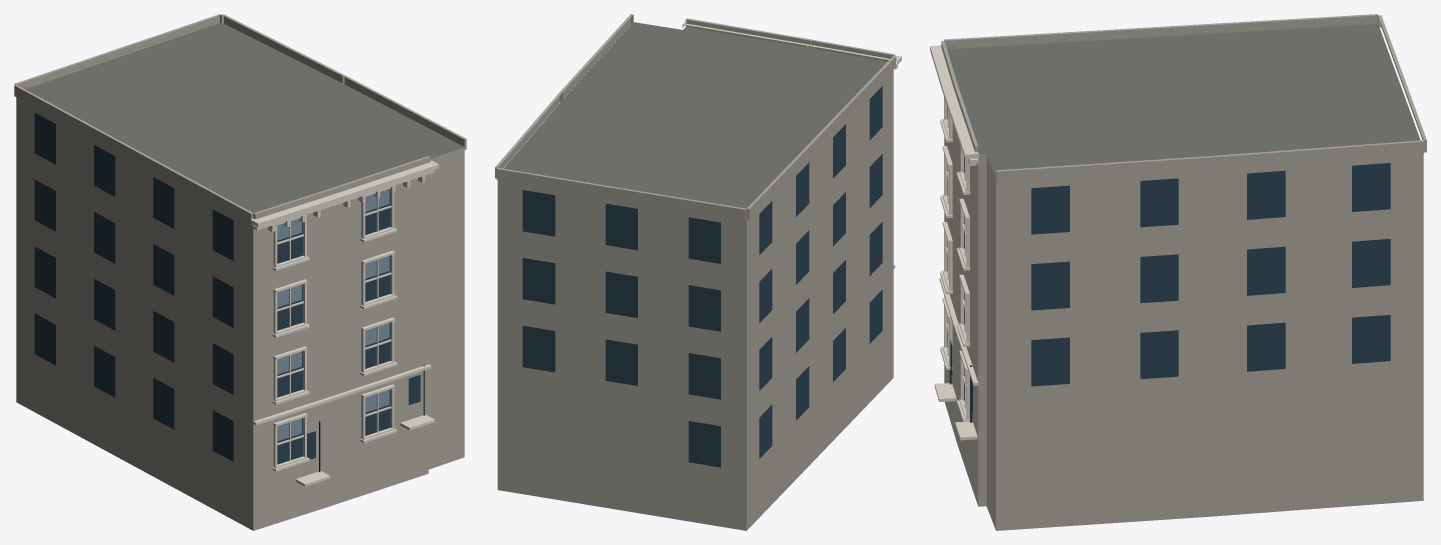
3 renders of one model, left to right at view 1: azimuth 30°, elevation 25°; view 2: azimuth 150°, elevation 25°; view 3: azimuth 270°, elevation 25°, orthographic. The views are drawn at different scales.
Parts seen in each view (by area): view 1: Footprint 0 / surface 2, Footprint 0 / surface 1, Inset glazing, Cornices and window frames, Facade bay volumes, Sky reflection panels; view 2: Footprint 0 / surface 2, Footprint 0 / surface 1, Inset glazing, Facade bay volumes, Cornices and window frames; view 3: Footprint 0 / surface 2, Footprint 0 / surface 1, Inset glazing, Facade bay volumes, Cornices and window frames.
Part boxes in pixels (bbox=[...]): Footprint 0 / surface 2: bbox=[16, 97, 464, 530]; Footprint 0 / surface 1: bbox=[25, 22, 463, 212]; Inset glazing: bbox=[34, 113, 420, 464]; Cornices and window frames: bbox=[250, 160, 439, 486]; Facade bay volumes: bbox=[14, 14, 466, 224]; Sky reflection panels: bbox=[277, 189, 389, 441]; Footprint 0 / surface 2: bbox=[497, 70, 893, 530]; Footprint 0 / surface 1: bbox=[504, 22, 886, 208]; Inset glazing: bbox=[522, 86, 882, 467]; Facade bay volumes: bbox=[495, 14, 896, 220]; Cornices and window frames: bbox=[682, 21, 901, 268]; Footprint 0 / surface 2: bbox=[944, 123, 1423, 530]; Footprint 0 / surface 1: bbox=[947, 24, 1420, 177]; Inset glazing: bbox=[947, 107, 1390, 413]; Facade bay volumes: bbox=[941, 14, 1426, 183]; Cornices and window frames: bbox=[930, 45, 978, 440].
Size of the model in its own units: 13.86 by 14.78 by 18.45.
